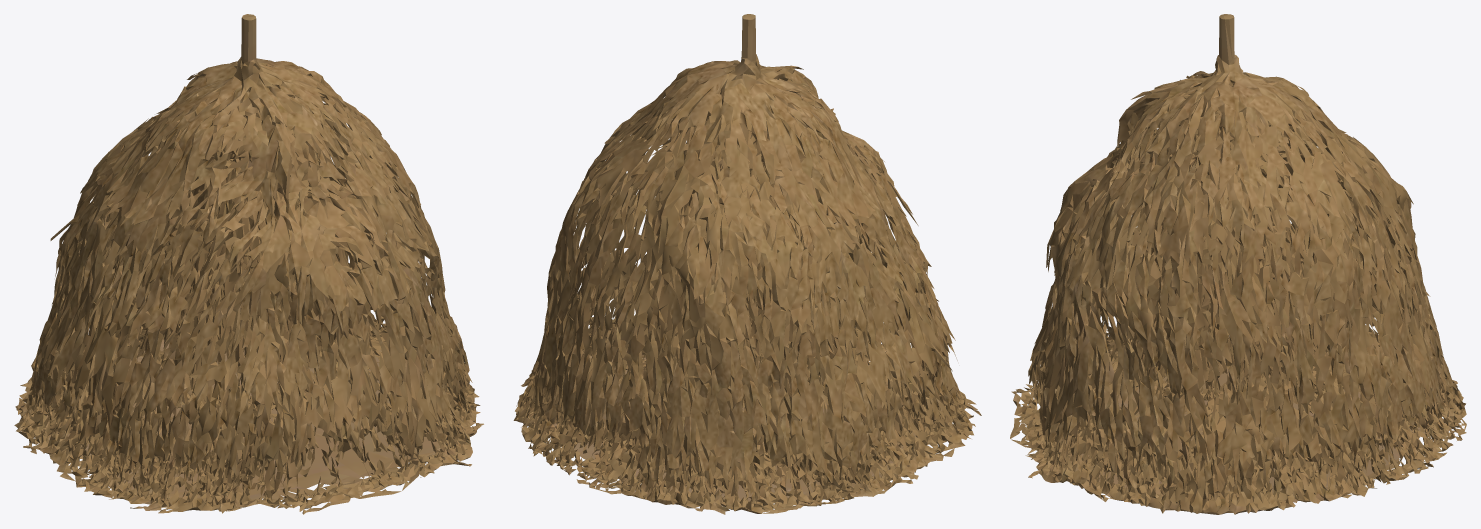
The model's file is haystack.glb.
The picture shows the model from 3 angles, left to right: view 1: azimuth 30°, elevation 25°; view 2: azimuth 150°, elevation 25°; view 3: azimuth 270°, elevation 25°; orthographic projection.
Visible parts, largest first — view 1: output_unwrapped; view 2: output_unwrapped; view 3: output_unwrapped.
Boxes of the visible parts, x1=… form: output_unwrapped: x1=14, y1=14, x2=483, y2=514; output_unwrapped: x1=513, y1=14, x2=981, y2=514; output_unwrapped: x1=1010, y1=14, x2=1466, y2=514.
Size of the model in its own units: 1.78 by 1.71 by 1.75.
1 material, 1 textured.
